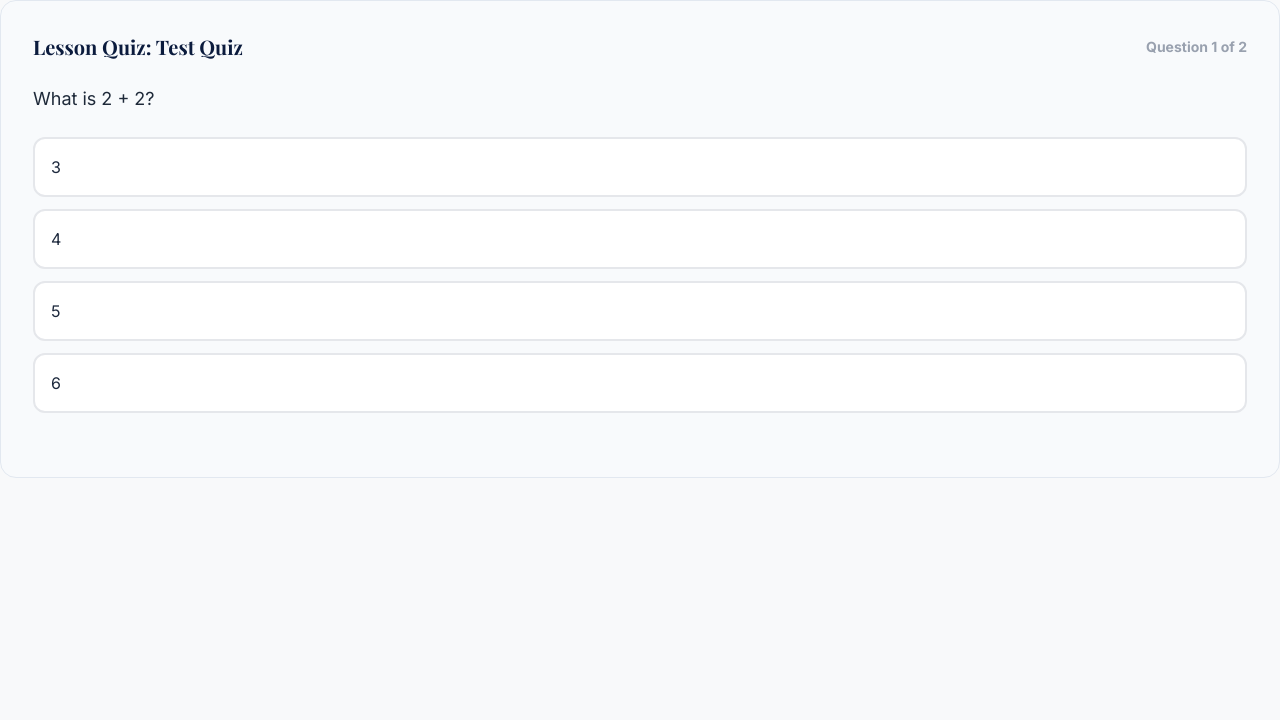
it: QuizComponent › evaluates correct vs incorrect answers and updates score appropriately
Choose the correct answer: 4 (Index 1)
What coordinates should you click on to do the following:
click the button "4"
I would click on:
 (56, 239)
Its box is [33,209,1247,269].
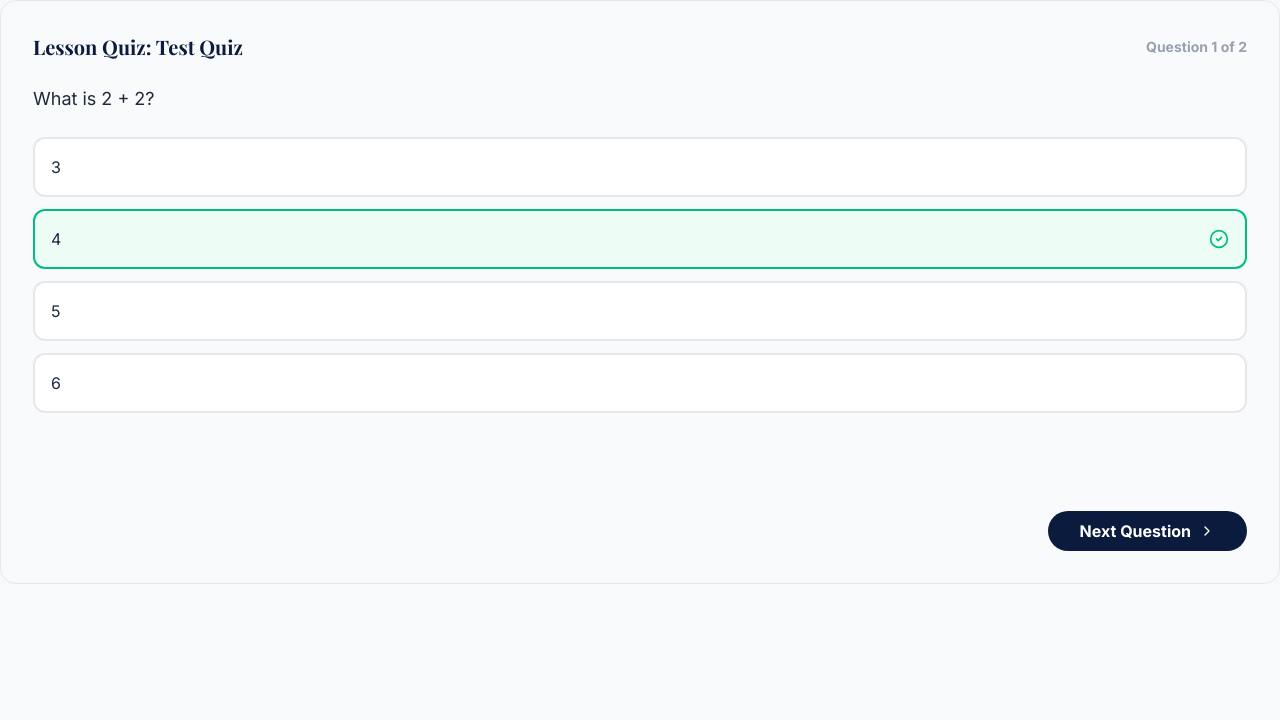
Click Next
What coordinates should you click on to do the following:
click the button "Next Question"
I would click on:
 (1147, 531)
Its box is [1048,511,1247,551].
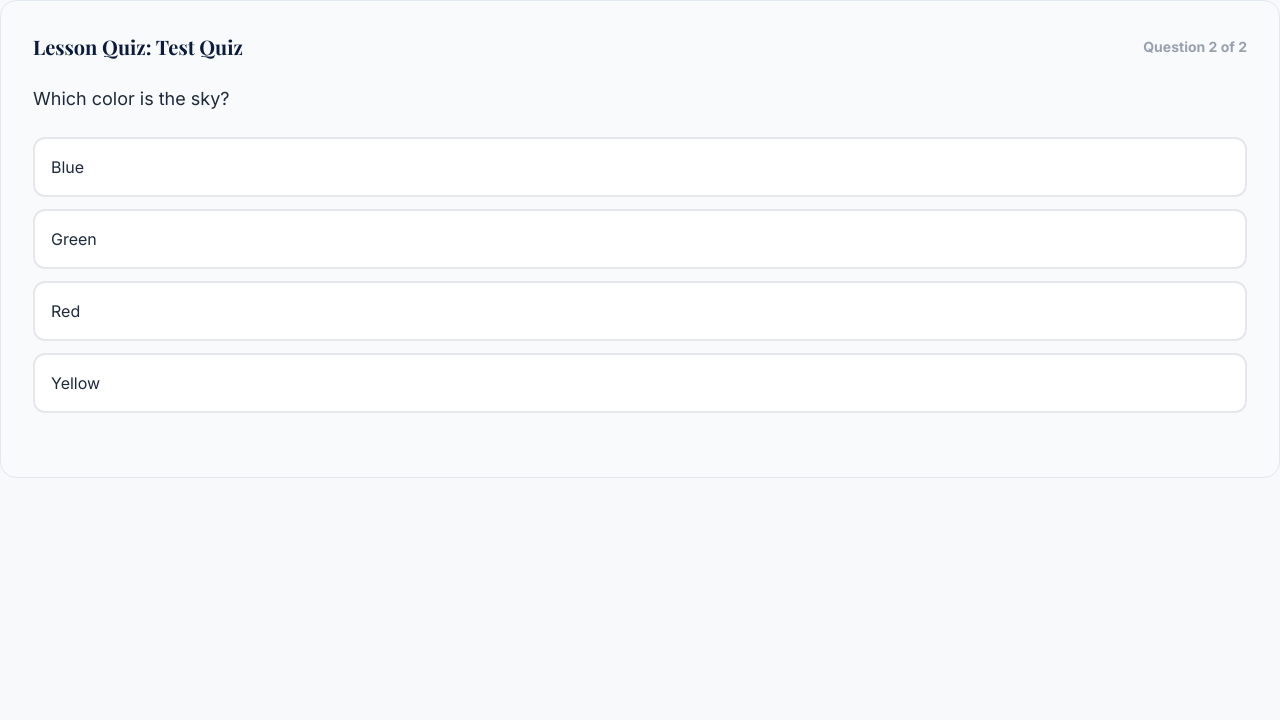
Now the text "Question 2 of 2" is shown, box [1143,37,1247,57]
Now the text "Which color is the sky?" is shown, box [33,88,230,109]
Choose the wrong answer: Green (Index 1)
What coordinates should you click on to do the following:
click the button "Green"
I would click on:
 (74, 239)
Its box is [33,209,1247,269].
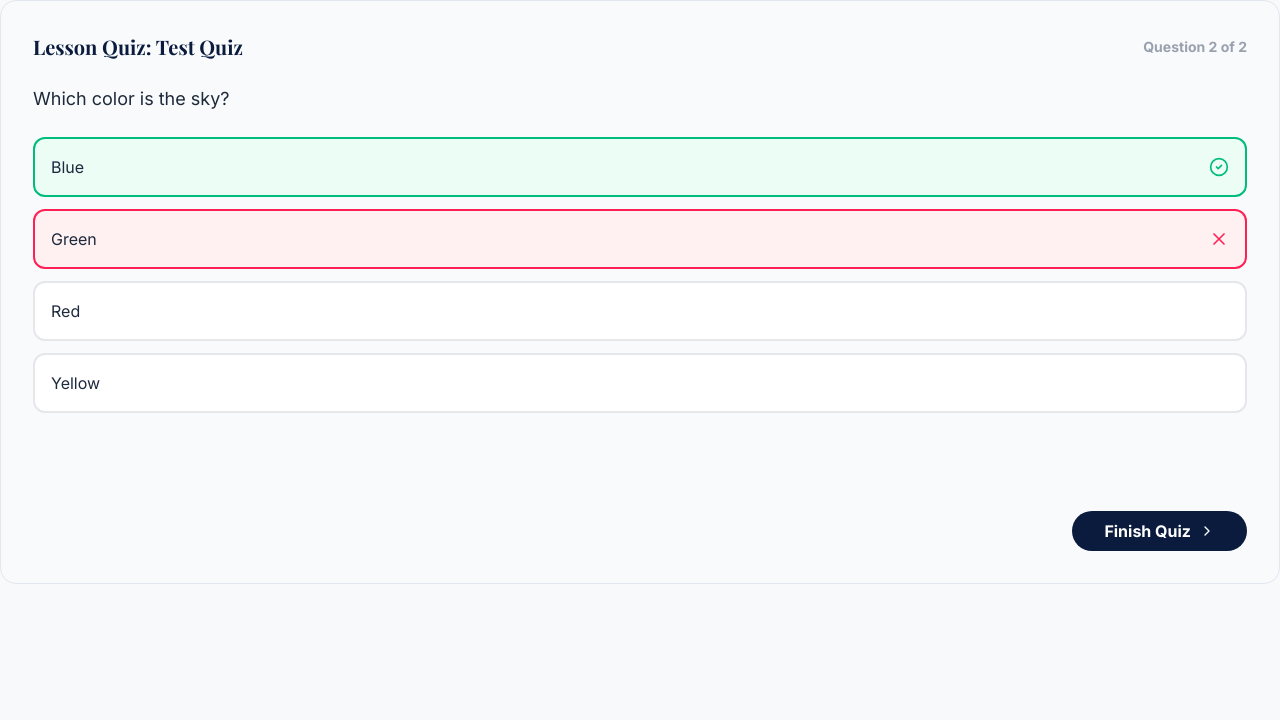
What coordinates should you click on to do the following:
click the button "Finish Quiz"
I would click on:
 (1160, 531)
Its box is [1072,511,1247,551].
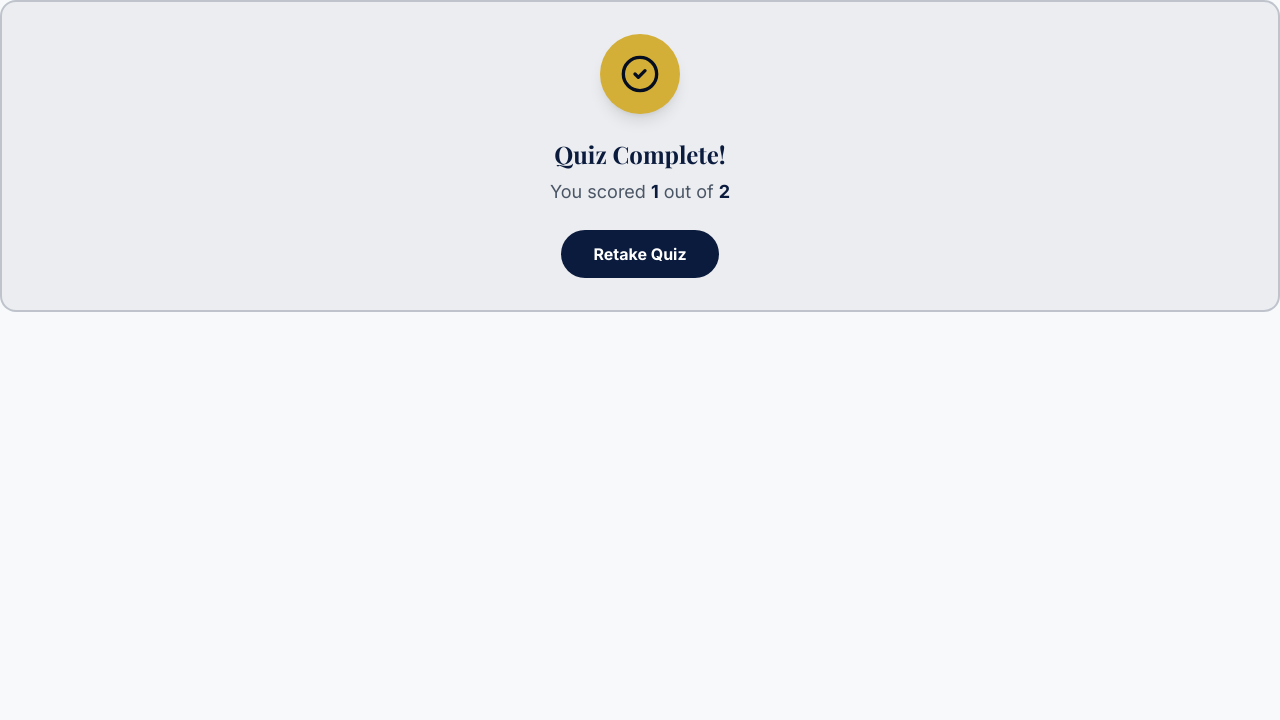
Now the heading "Quiz Complete!" is shown, box [554,138,726,170]
Now the text "1" is shown, box [651,181,659,202]
